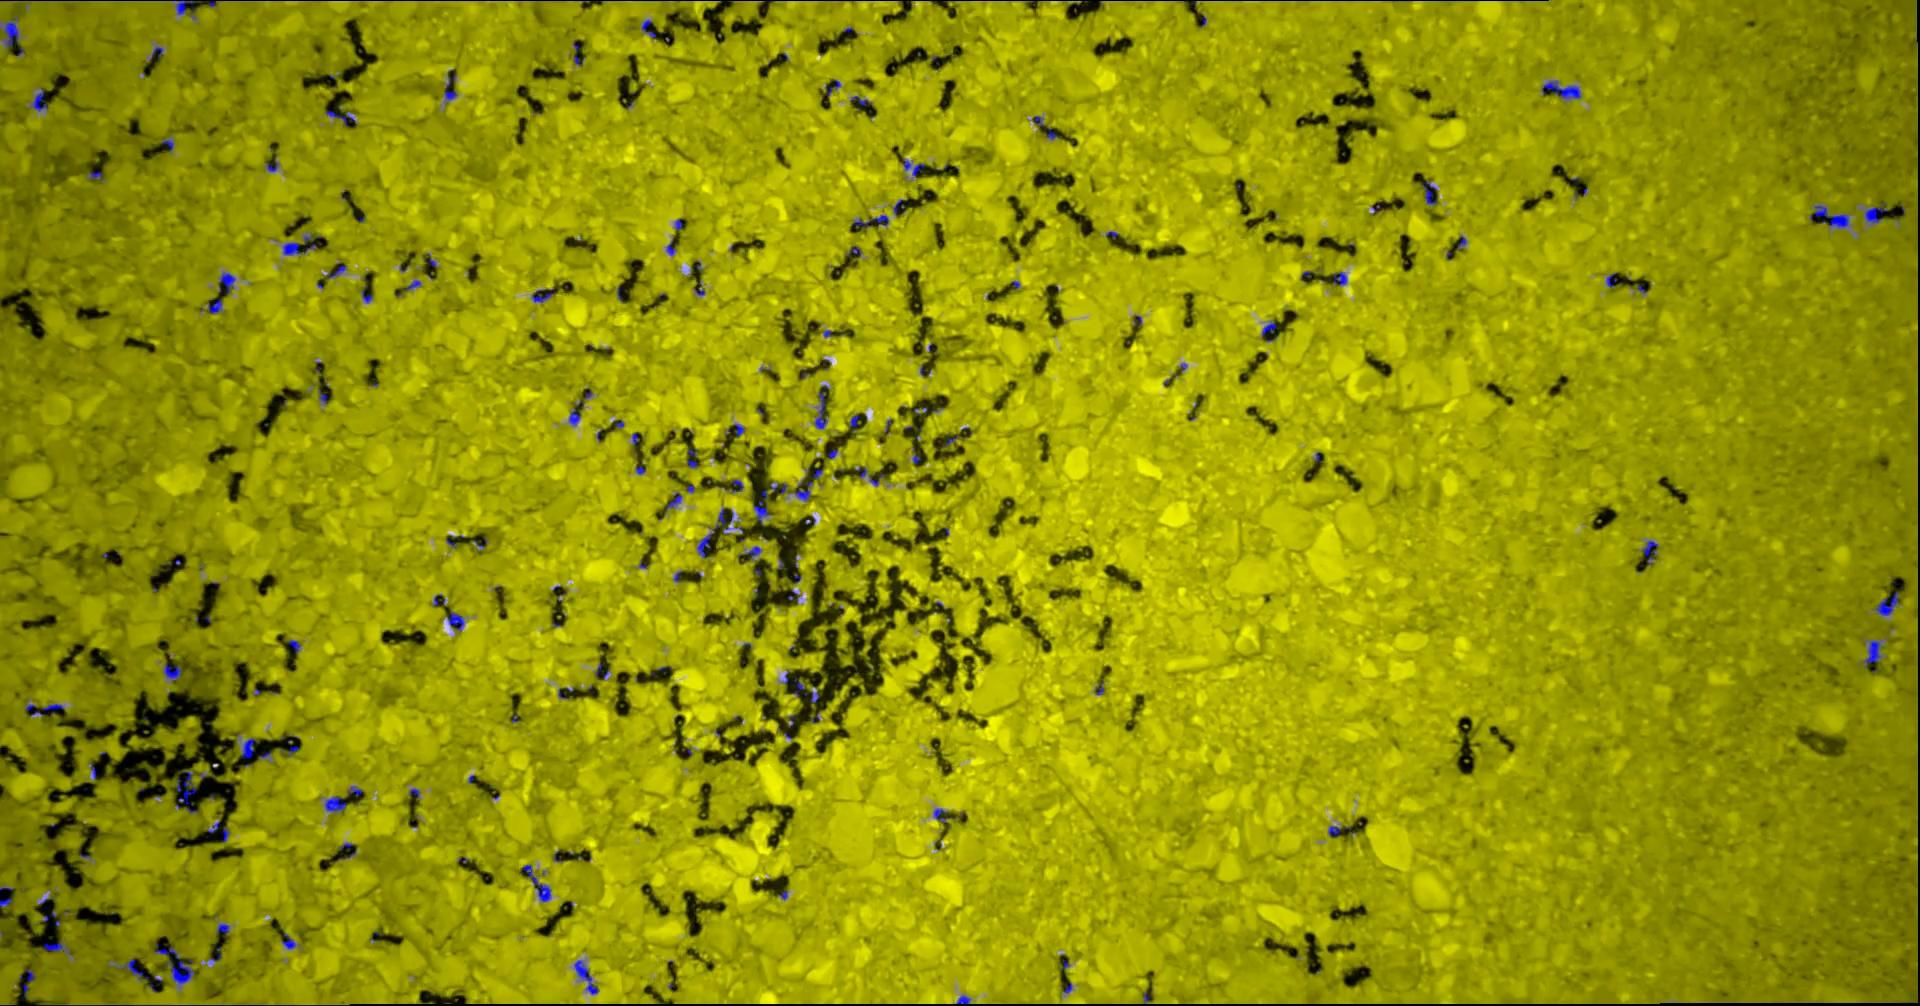ant: (155, 942, 194, 984), (522, 864, 550, 901), (175, 770, 197, 813), (573, 959, 598, 995), (1810, 205, 1849, 227), (282, 232, 316, 255), (1542, 80, 1580, 98), (792, 677, 819, 702), (119, 958, 149, 981), (0, 15, 18, 48), (1874, 591, 1898, 615), (696, 528, 715, 558), (753, 489, 768, 525), (25, 702, 63, 716), (1863, 202, 1887, 224), (173, 0, 199, 19), (325, 109, 356, 126), (852, 215, 888, 229), (1863, 639, 1881, 666), (813, 391, 825, 428), (789, 480, 811, 500), (1641, 540, 1658, 565), (715, 507, 731, 533), (902, 158, 924, 177), (30, 86, 47, 111), (1421, 180, 1437, 205), (568, 401, 583, 426), (218, 272, 235, 293), (443, 72, 456, 100), (43, 942, 71, 955), (446, 611, 463, 630), (531, 288, 555, 302), (240, 737, 255, 758), (324, 796, 345, 812), (163, 663, 182, 680), (201, 298, 222, 312), (640, 19, 657, 37), (665, 492, 681, 511), (571, 41, 583, 65), (738, 546, 759, 559), (1261, 320, 1276, 337), (328, 264, 345, 278), (933, 808, 951, 822), (686, 447, 697, 467), (287, 735, 298, 756), (891, 199, 905, 215), (281, 932, 295, 948), (1332, 271, 1346, 285), (287, 639, 300, 654), (770, 483, 786, 494), (19, 969, 36, 981), (1605, 272, 1617, 287), (216, 923, 229, 935), (956, 995, 970, 1005), (1327, 826, 1340, 835)
